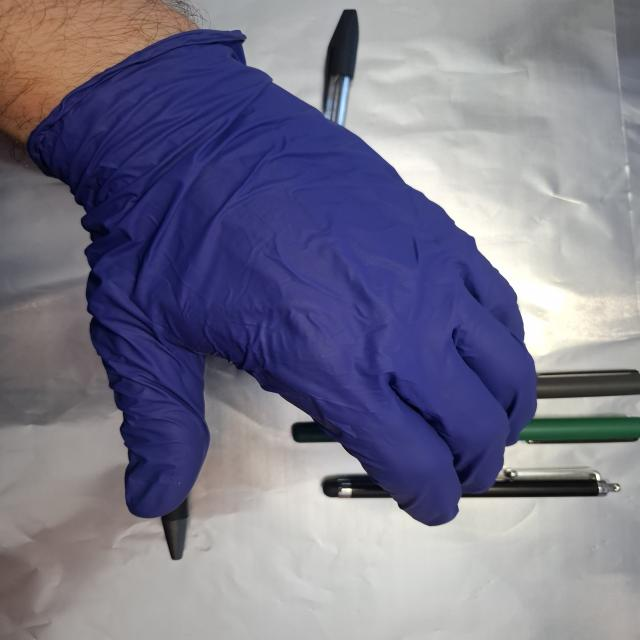glove_on: (32, 29, 542, 529)
